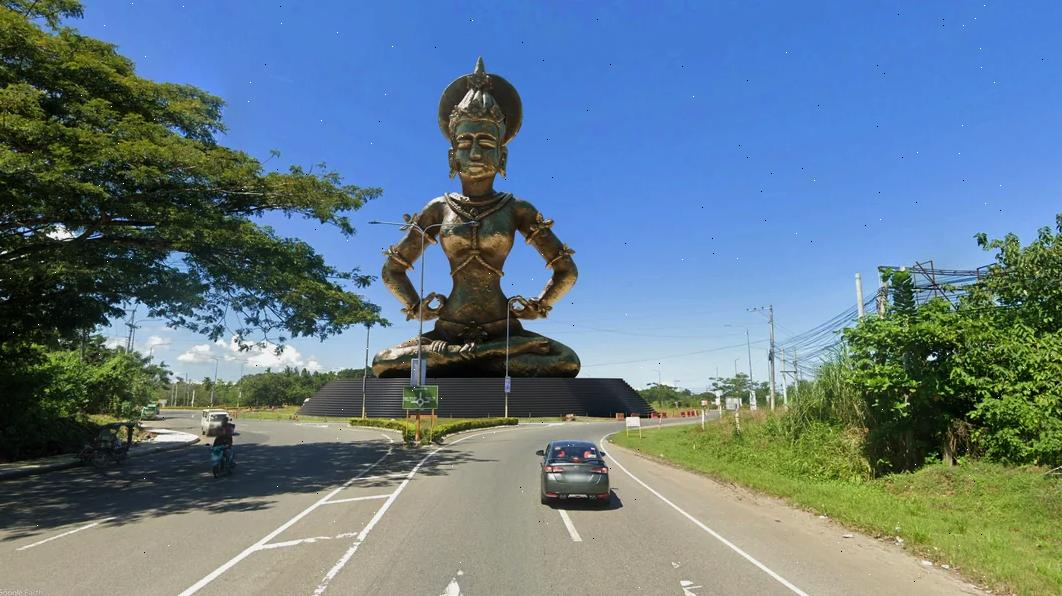golden_tara_of_agusan: (365, 55, 584, 382)
